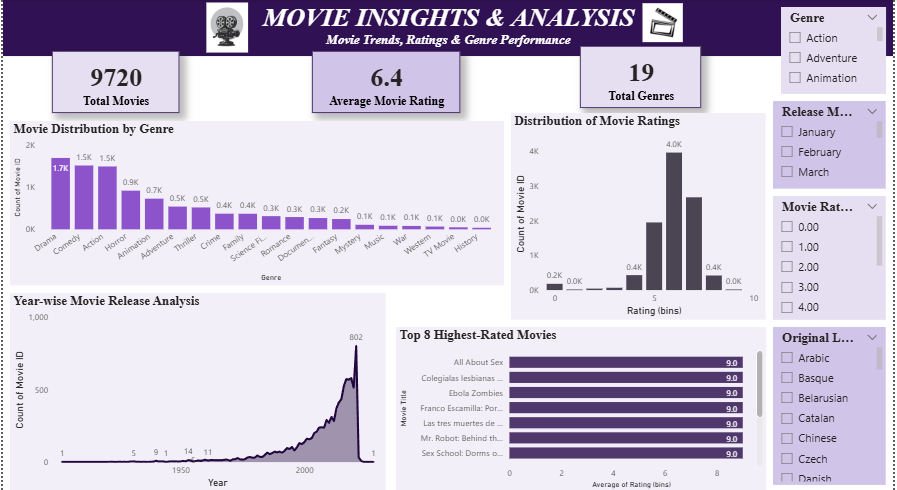

This screenshot's page, from the dashboard's own definition file:
{"tool":"powerbi","page":{"name":"Movie Insights & Analysis","canvas":[1280,720],"ordinal":3},"visuals":[{"type":"textbox","box":[0,0,1280.5,81.9],"z":0},{"type":"card","fields":{"Values":["Avg(Movie_Details.Rating)"]},"box":[444.1,74.7,212.7,89.1],"z":1000},{"type":"card","fields":{"Values":["Count(Movie_Details.Genre)"]},"box":[829.2,67.5,173.9,89.1],"z":2000},{"type":"card","fields":{"Values":["CountNonNull(Movie_Details.Movie ID)"]},"box":[70.4,74.7,182.5,89.1],"z":3000},{"type":"columnChart","title":"Movie Distribution by Genre","fields":{"Category":["Movie_Details.Genre"],"Y":["Count(Movie_Details.Movie ID)"]},"box":[10.1,175.3,709.9,235.7],"z":4000},{"type":"areaChart","title":"Year-wise Movie Release Analysis","fields":{"Category":["Movie_Details.Release Date.Variation.Date Hierarchy.Year"],"Y":["Count(Movie_Details.Movie ID)"]},"box":[10.1,422.5,540.4,286],"z":5000},{"type":"clusteredBarChart","title":"Top 8 Highest-Rated Movies","fields":{"Category":["Movie_Details.Movie Title"],"Y":["Avg(Movie_Details.Rating (bins))"]},"box":[564.8,471.4,531.7,237.1],"z":6000},{"type":"clusteredColumnChart","title":"Distribution of Movie Ratings","fields":{"Y":["Count(Movie_Details.Movie ID)"],"Category":["Movie_Details.Rating (bins)"]},"box":[730.1,163.8,366.5,297.5],"z":7000},{"type":"slicer","fields":{"Values":["Movie_Details.Genre"]},"box":[1118.1,11.5,150.9,125],"z":8000},{"type":"slicer","fields":{"Values":["Movie_Details.Release Date.Variation.Date Hierarchy.Month"]},"box":[1106.6,146.6,162.4,126.5],"z":9000},{"type":"slicer","fields":{"Values":["Movie_Details.Rating (bins)"]},"box":[1106.6,283.1,162.4,178.2],"z":10000},{"type":"slicer","fields":{"Values":["Movie_Details.Original_language"]},"box":[1106.6,471.4,162.4,227.1],"z":11000},{"type":"image","box":[280.2,0,84.8,81.9],"z":12000},{"type":"image","box":[914,0,67.5,67.5],"z":13000}]}

Visuals, with their boxes in screenshot pixels (x1, y1, x2, y2), scaled from the page's 1280x720 canvas onto the 897x490 screenshot:
textbox: crop(0, 0, 896, 56)
card - Avg(Movie_Details.Rating): crop(311, 51, 460, 111)
card - Count(Movie_Details.Genre): crop(581, 46, 703, 107)
card - CountNonNull(Movie_Details.Movie ID): crop(49, 51, 177, 111)
"Movie Distribution by Genre" columnChart: crop(7, 119, 505, 280)
"Year-wise Movie Release Analysis" areaChart: crop(7, 288, 386, 482)
"Top 8 Highest-Rated Movies" clusteredBarChart: crop(396, 321, 768, 482)
"Distribution of Movie Ratings" clusteredColumnChart: crop(512, 111, 768, 314)
slicer - Movie_Details.Genre: crop(784, 8, 889, 93)
slicer - Movie_Details.Release Date.Variation.Date Hierarchy.Month: crop(775, 100, 889, 186)
slicer - Movie_Details.Rating (bins): crop(775, 193, 889, 314)
slicer - Movie_Details.Original_language: crop(775, 321, 889, 475)
image: crop(196, 0, 256, 56)
image: crop(641, 0, 688, 46)
